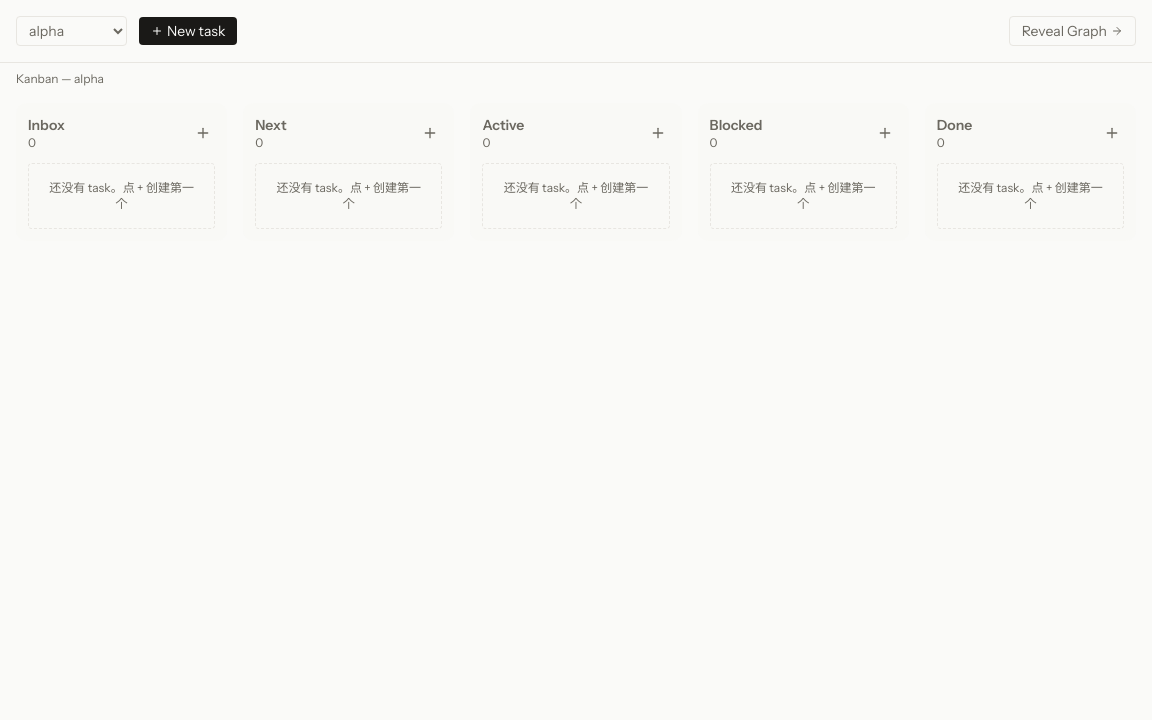
Test case: KanbanView › 点击 New task 打开 modal 默认 Inbox status
The image size is (1152, 720).
Step 1. Click the button "New task" → (188, 31), box [139,17,237,45]
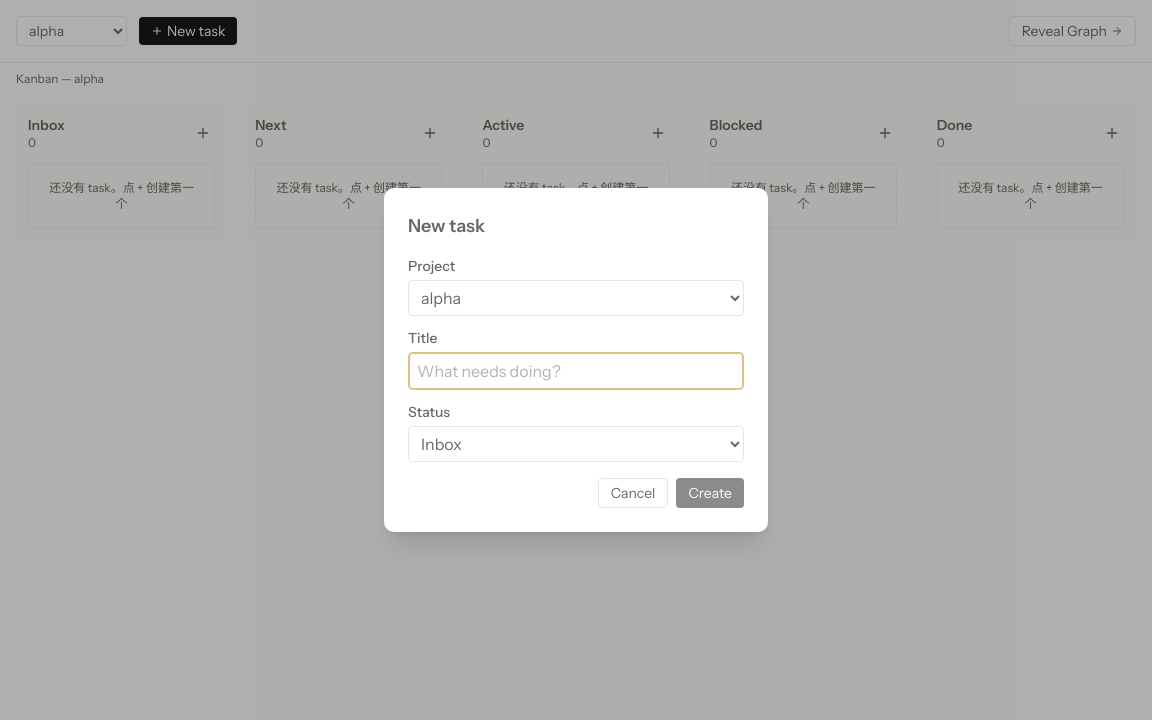
Expected: the dialog with test id "create-task-modal" is shown
Expected: the dropdown showing "Inbox" is shown, [408,426,744,462]
